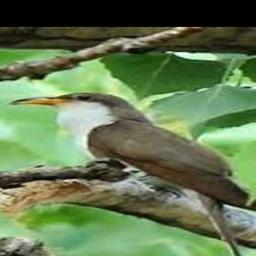Cuckoo: (8, 92, 256, 255)
